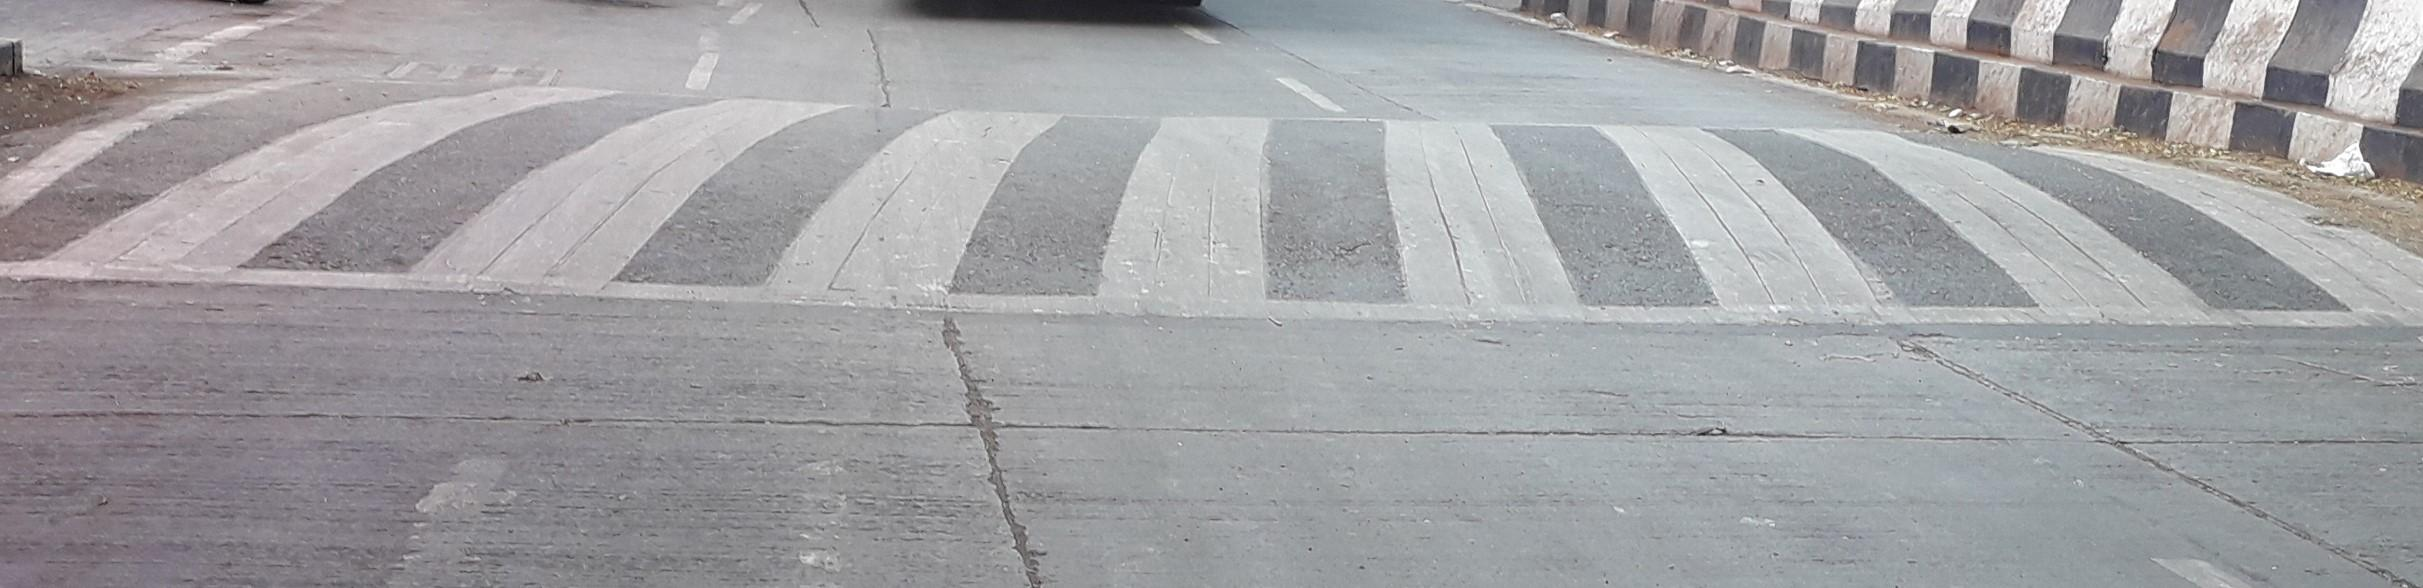speed-bump: (5, 68, 2423, 338)
